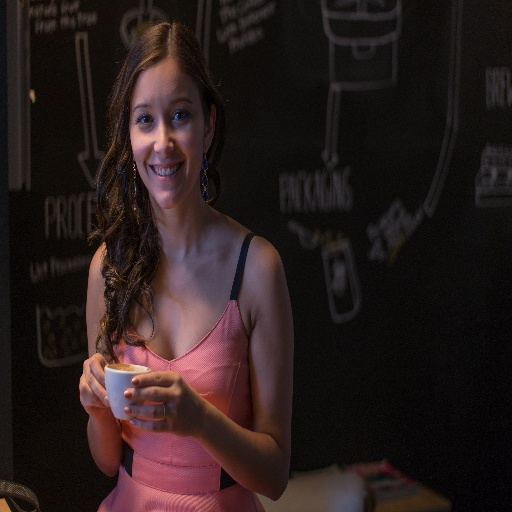hand: (101, 363, 224, 443), (78, 352, 110, 424)
